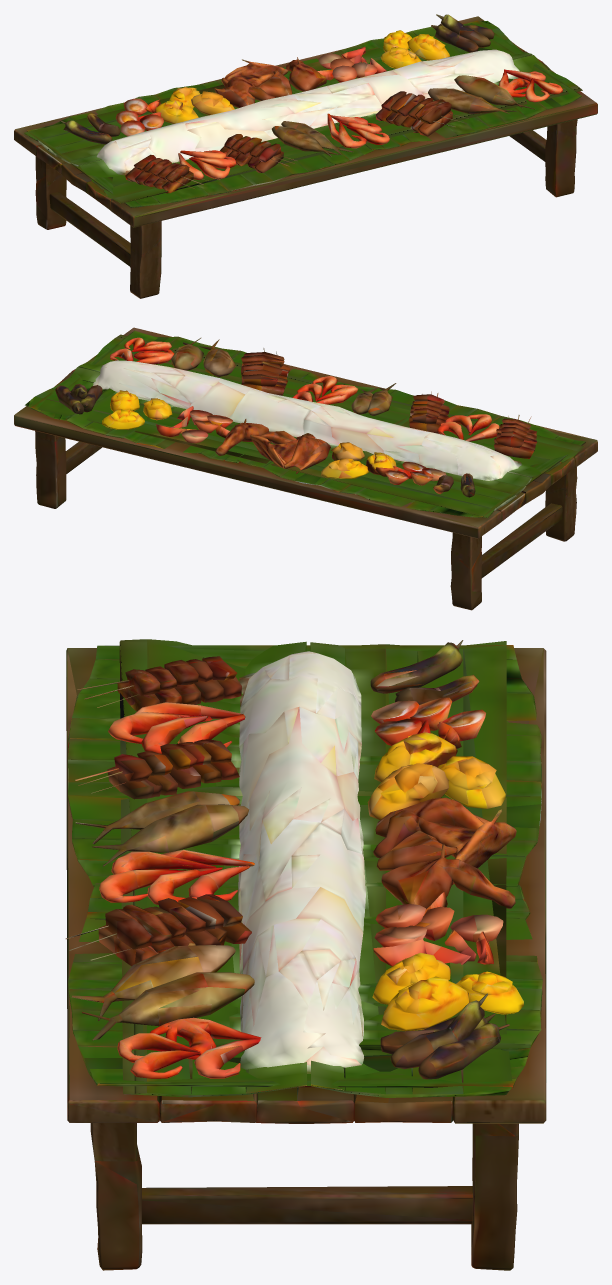
File: boodle.glb
3 renders of one model, top to bottom at view 1: azimuth 30°, elevation 25°; view 2: azimuth 150°, elevation 25°; view 3: azimuth 270°, elevation 25°, orthographic. The views are drawn at different scales.
Visible parts, largest first — view 1: geometry_0; view 2: geometry_0; view 3: geometry_0.
Boxes of the visible parts, box(x1,y1,x2,y2) form: geometry_0: box(14, 14, 597, 298); geometry_0: box(14, 327, 597, 610); geometry_0: box(65, 639, 546, 1270).
Bounding box in the file's own units: 0.9536 × 0.2334 × 0.4219.
Materials: 1 (1 with a texture image).
